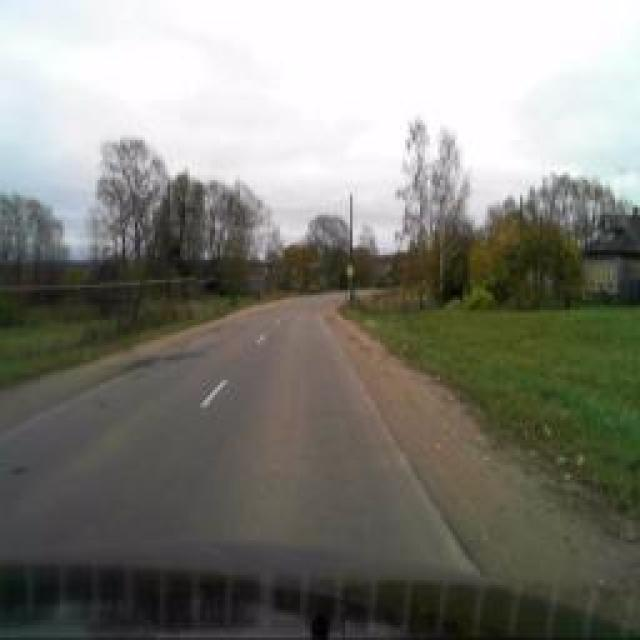sign: (345, 261, 355, 279)
